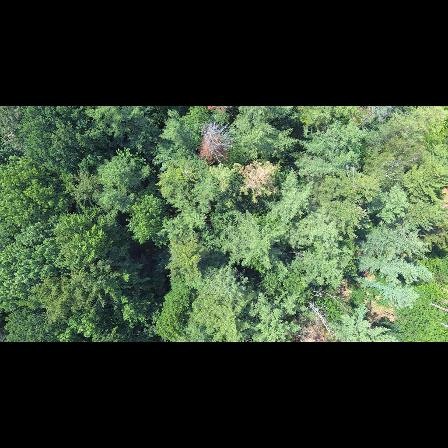Dead: (197, 120, 237, 166), (307, 294, 339, 341)
